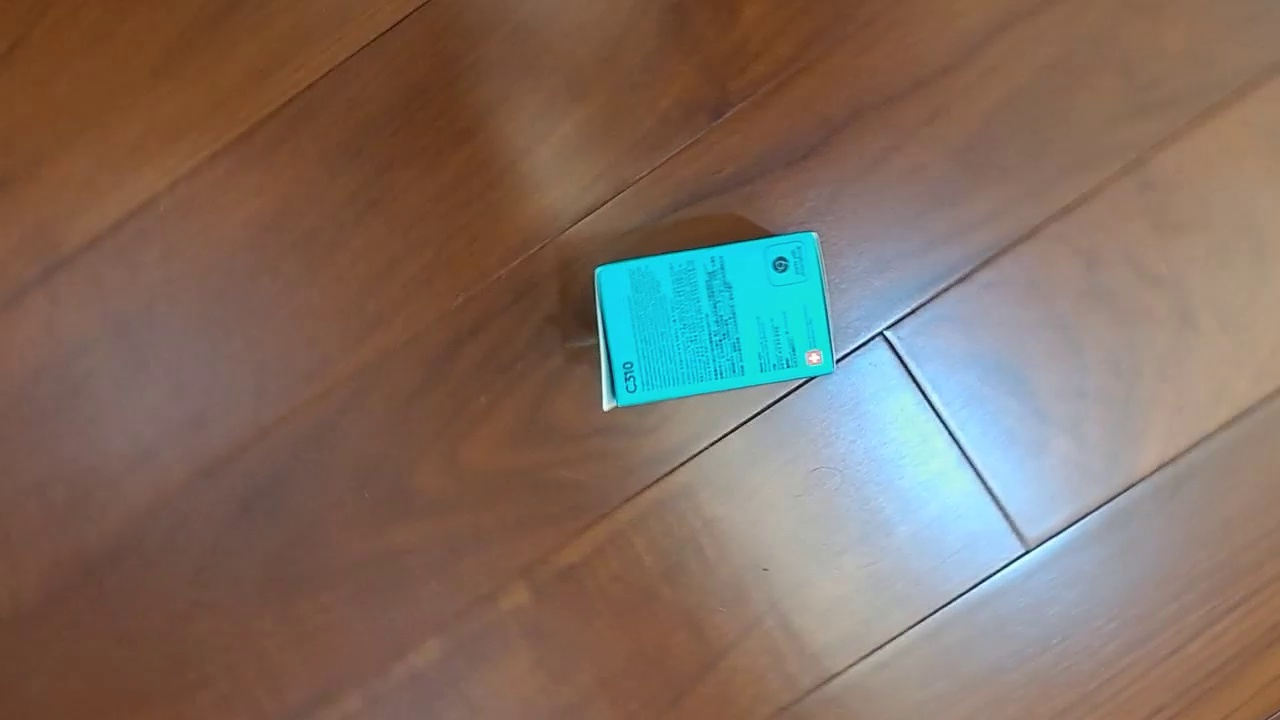webcam: (593, 230, 837, 413)
